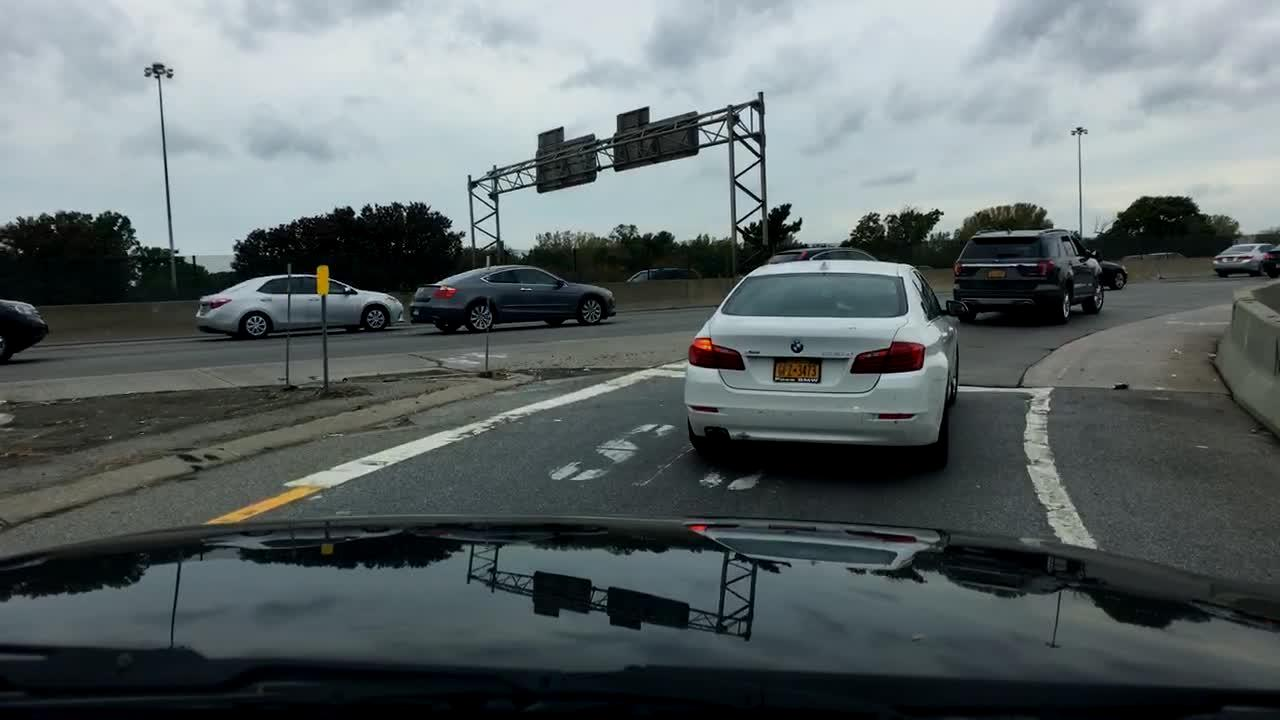bmw: (781, 335, 814, 361)
